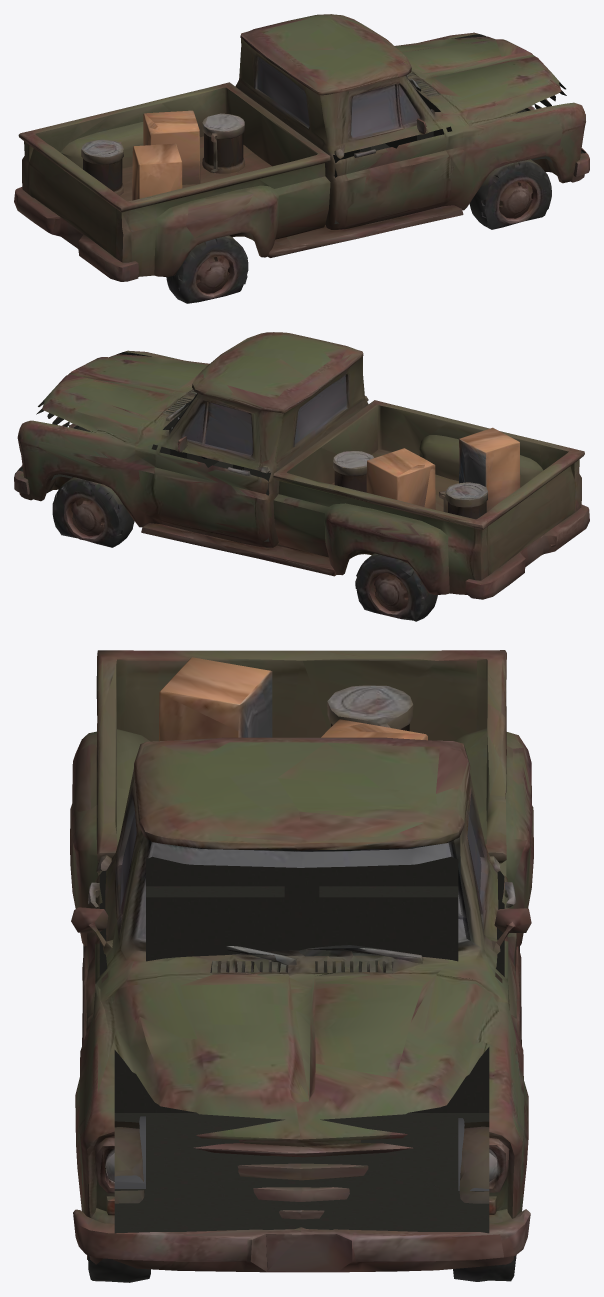
The model's file is pickup.glb.
3 renders of one model, top to bottom at view 1: azimuth 30°, elevation 25°; view 2: azimuth 150°, elevation 25°; view 3: azimuth 270°, elevation 25°, orthographic. The views are drawn at different scales.
Visible parts, largest first — view 1: body, door_front_1, hood, tailgate, wheel_3, wheel_1; view 2: body, door_back_1, hood, tailgate, wheel_4, wheel_2; view 3: body, hood, door_front_1, door_back_1, wheel_4, wheel_3.
Boxes of the visible parts, left/top/right/bottom form: body: left=14, top=14, right=589, bottom=303; door_front_1: left=321, top=80, right=451, bottom=227; hood: left=395, top=36, right=561, bottom=130; tailgate: left=14, top=134, right=130, bottom=276; wheel_3: left=476, top=159, right=547, bottom=226; wheel_1: left=182, top=235, right=246, bottom=300; body: left=14, top=332, right=589, bottom=621; door_back_1: left=152, top=397, right=282, bottom=545; hood: left=42, top=354, right=209, bottom=448; tailgate: left=473, top=452, right=589, bottom=594; wheel_4: left=54, top=477, right=123, bottom=543; wheel_2: left=357, top=553, right=421, bottom=618; body: left=70, top=650, right=533, bottom=1282; hood: left=100, top=954, right=504, bottom=1120; door_front_1: left=71, top=779, right=141, bottom=1019; door_back_1: left=462, top=779, right=531, bottom=1019; wheel_4: left=458, top=1118, right=516, bottom=1260; wheel_3: left=81, top=1116, right=145, bottom=1259.
Size of the model in its own units: 5.2 by 1.78 by 2.15.
Materials: 6 (4 with a texture image).
